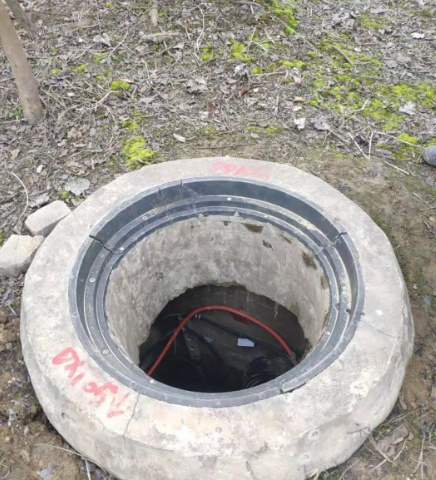lose: (69, 175, 362, 409)
